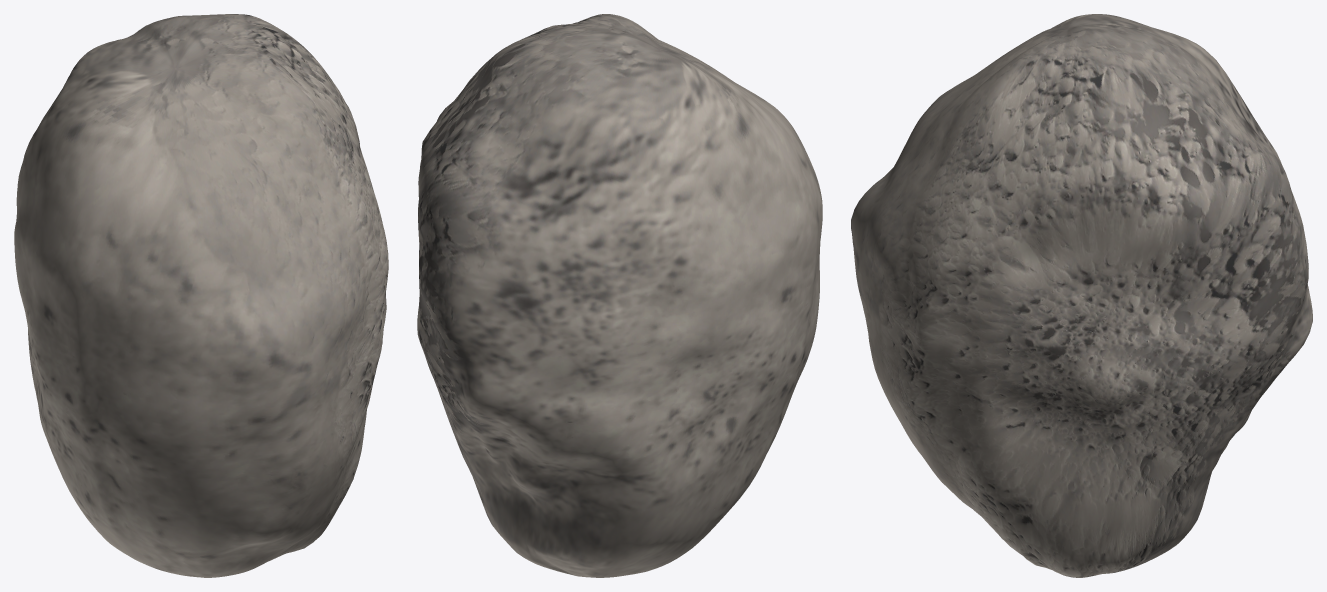
File: hyperion.glb
3 renders of one model, left to right at view 1: azimuth 30°, elevation 25°; view 2: azimuth 150°, elevation 25°; view 3: azimuth 270°, elevation 25°, orthographic. The views are drawn at different scales.
Visible parts, largest first — view 1: Object_2; view 2: Object_2; view 3: Object_2.
Part boxes in pixels (bbox=[...]): Object_2: bbox=[14, 14, 388, 577]; Object_2: bbox=[417, 14, 822, 577]; Object_2: bbox=[851, 14, 1312, 577].
Bounding box in the file's own units: 7.26 × 11.59 × 9.19.
Materials: 1 (1 with a texture image).
